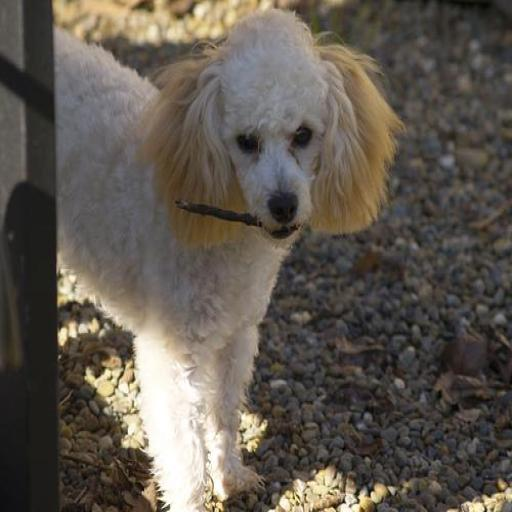dog_face: (156, 16, 391, 243)
